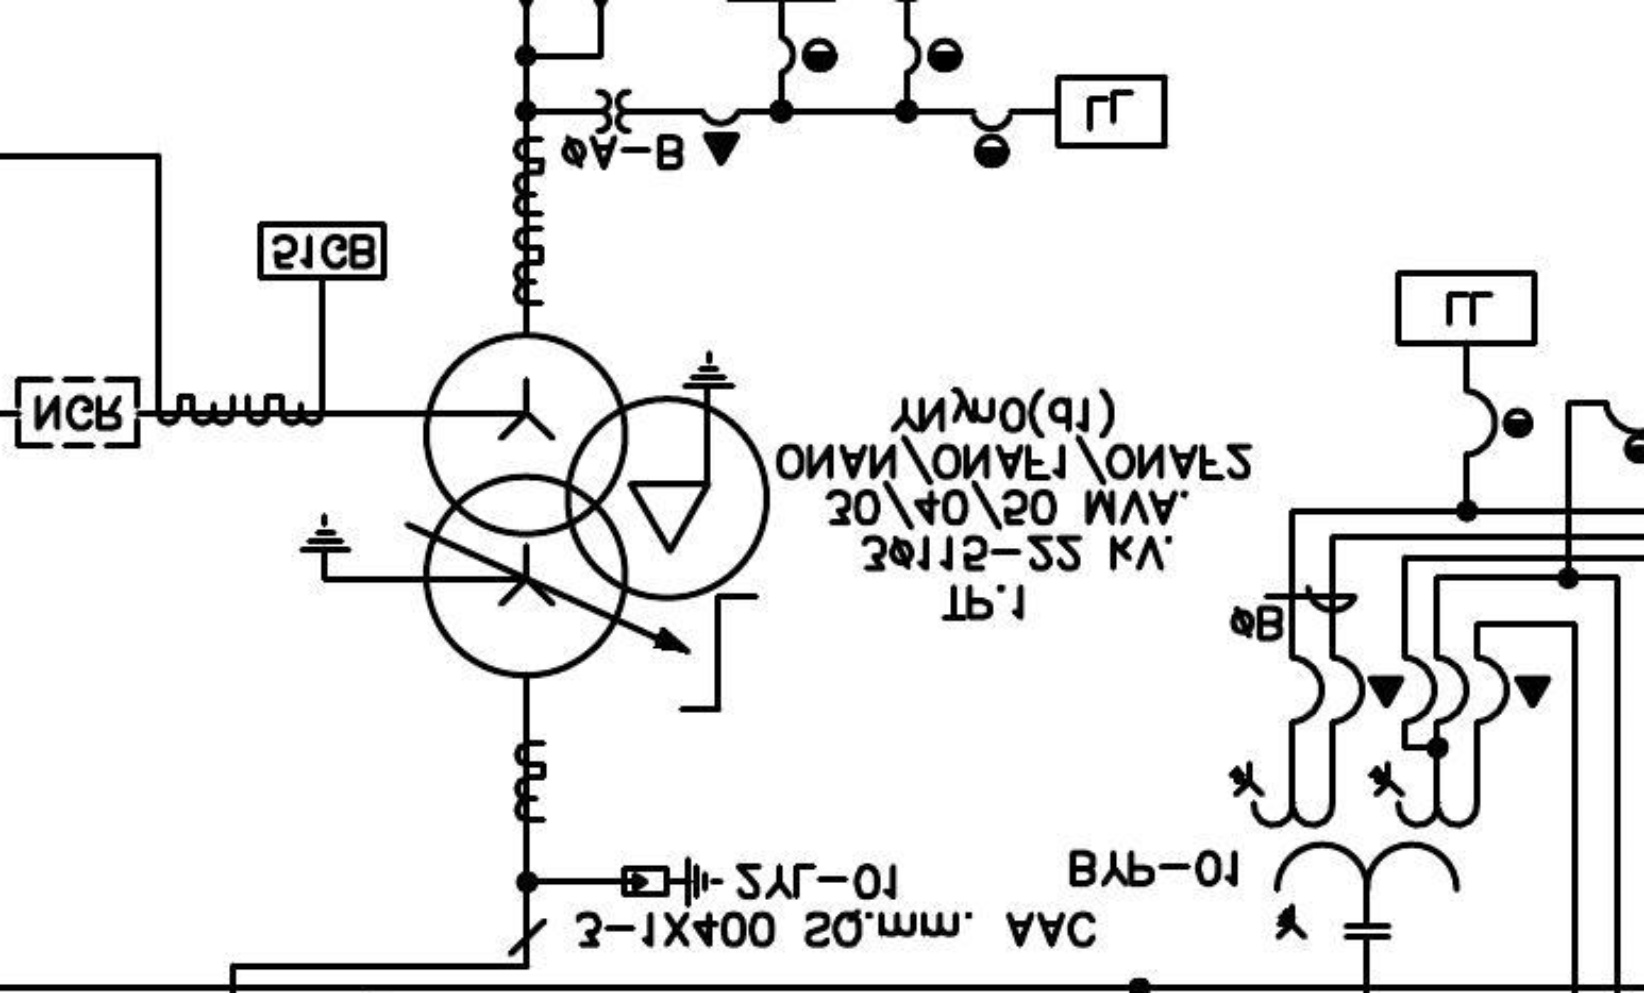11522_tx_ynyn0d1: (419, 330, 773, 681)
115_cvt_3p: (1226, 758, 1482, 941)
115_la: (620, 854, 725, 910)
LL: (1395, 269, 1537, 347), (1055, 73, 1168, 149)
